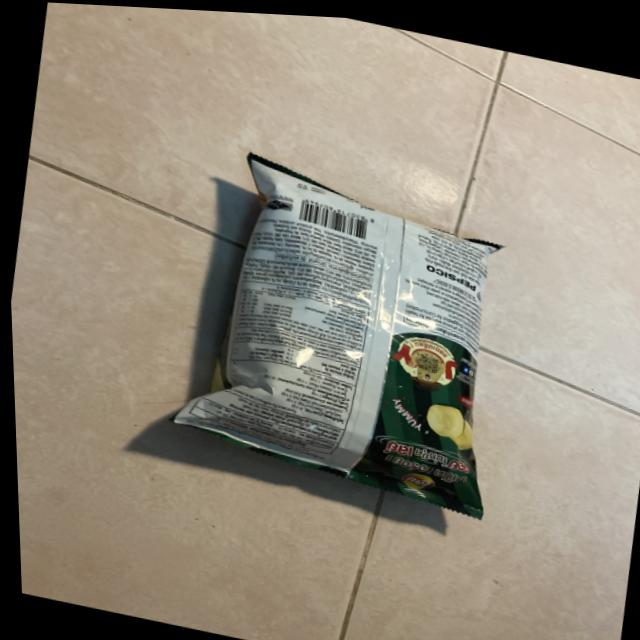Laygreen: (110, 124, 534, 560)
